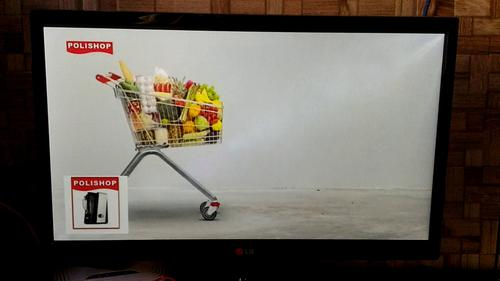Polishop #1: (64, 175, 129, 233)
